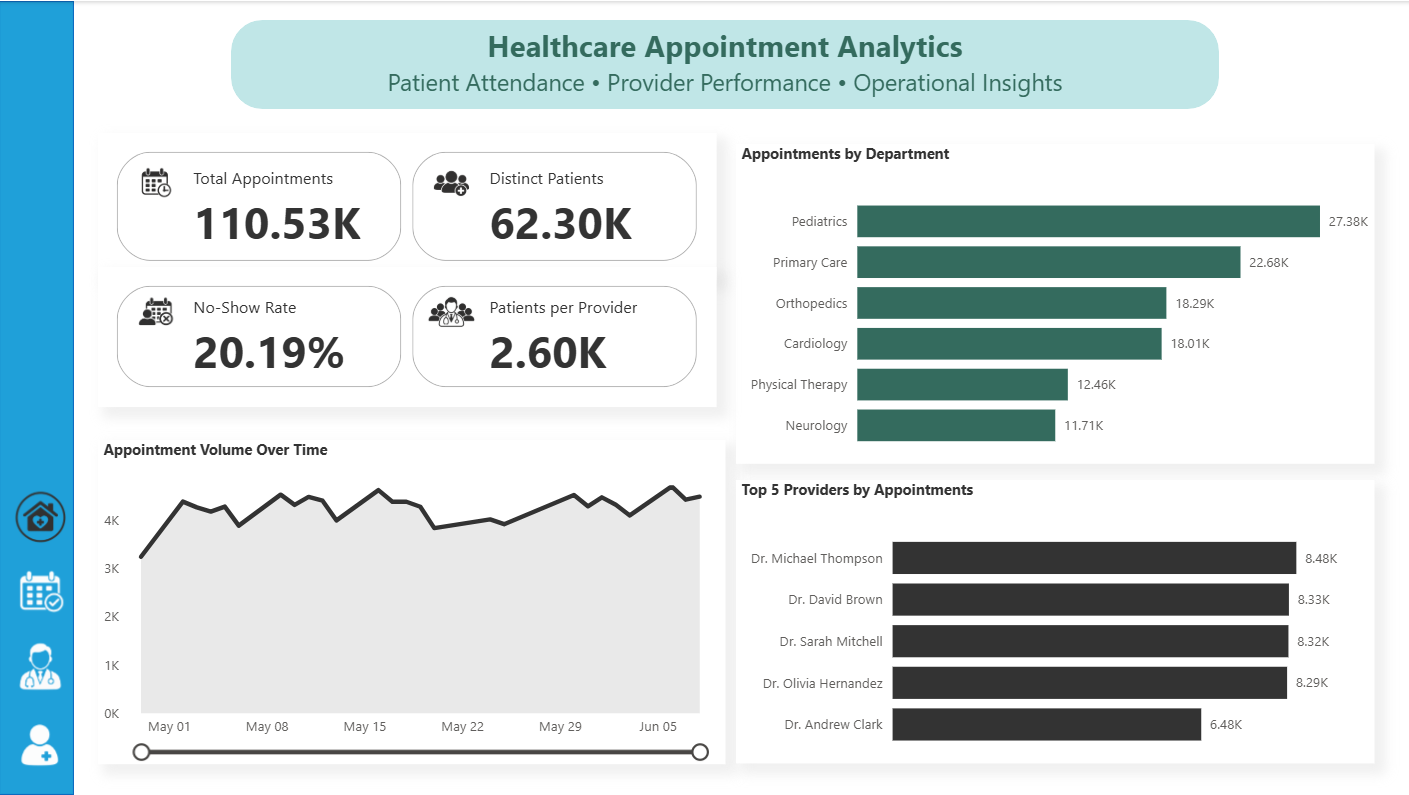

This screenshot's page, from the dashboard's own definition file:
{"tool":"powerbi","page":{"name":"Executive Overview","canvas":[1280,720],"ordinal":0},"visuals":[{"type":"shape","box":[210.5,17,895.9,80.8],"z":0},{"type":"shape","box":[0,0,68,720],"z":1000},{"type":"textbox","box":[220.5,17,875.9,84.8],"z":2000},{"type":"cardVisual","fields":{"Data":["Measure Table.Total Appts","Measure Table.Distinct Patients"]},"box":[89.8,119.7,561.3,133.3],"z":3000},{"type":"lineChart","title":"Appointment Volume Over Time","fields":{"Category":["FactAppointments.AppointmentDate"],"Y":["Measure Table.Total Appointmentsts"]},"box":[89.8,398.1,568.6,293.8],"z":4000},{"type":"barChart","title":"Appointments by Department","fields":{"Category":["DepartmentDim.Department"],"Y":["Measure Table.Total Appointmentsts"]},"box":[668.3,129.7,578.5,290.2],"z":5000},{"type":"clusteredBarChart","title":"Top 5 Providers by Appointments","fields":{"Category":["ProviderDim.ProviderName"],"Y":["Measure Table.Total Appointments"]},"box":[668.4,434,578.6,257.4],"z":6000},{"type":"cardVisual","fields":{"Data":["Measure Table.No Show %","Measure Table.Patients per Doctor"]},"box":[89.8,241.2,561.3,127],"z":7000},{"type":"actionButton","box":[0,429.8,75.5,76.7],"z":8000},{"type":"actionButton","box":[9.3,506.4,56.9,58.1],"z":9000},{"type":"actionButton","box":[9.3,573.8,56.9,58.1],"z":10000},{"type":"actionButton","box":[2.3,640,73.2,68.5],"z":11000}]}

Visuals, with their boxes on the page's 1280x720 design canvas (x1, y1, x2, y2). These are canvas units, not pixel positions in the 1409x795 screenshot, which may show the page scaled, cropped or inside an application window:
shape: box=[210, 17, 1106, 98]
shape: box=[0, 0, 68, 720]
textbox: box=[220, 17, 1096, 102]
cardVisual - Measure Table.Total Appts x Measure Table.Distinct Patients: box=[90, 120, 651, 253]
"Appointment Volume Over Time" lineChart: box=[90, 398, 658, 692]
"Appointments by Department" barChart: box=[668, 130, 1247, 420]
"Top 5 Providers by Appointments" clusteredBarChart: box=[668, 434, 1247, 691]
cardVisual - Measure Table.No Show % x Measure Table.Patients per Doctor: box=[90, 241, 651, 368]
actionButton: box=[0, 430, 76, 506]
actionButton: box=[9, 506, 66, 564]
actionButton: box=[9, 574, 66, 632]
actionButton: box=[2, 640, 76, 708]
